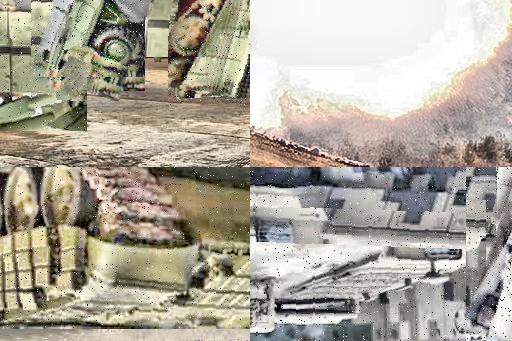tanks: (251, 168, 512, 341), (1, 168, 251, 329), (1, 1, 87, 132), (33, 1, 145, 77), (170, 1, 251, 100)
